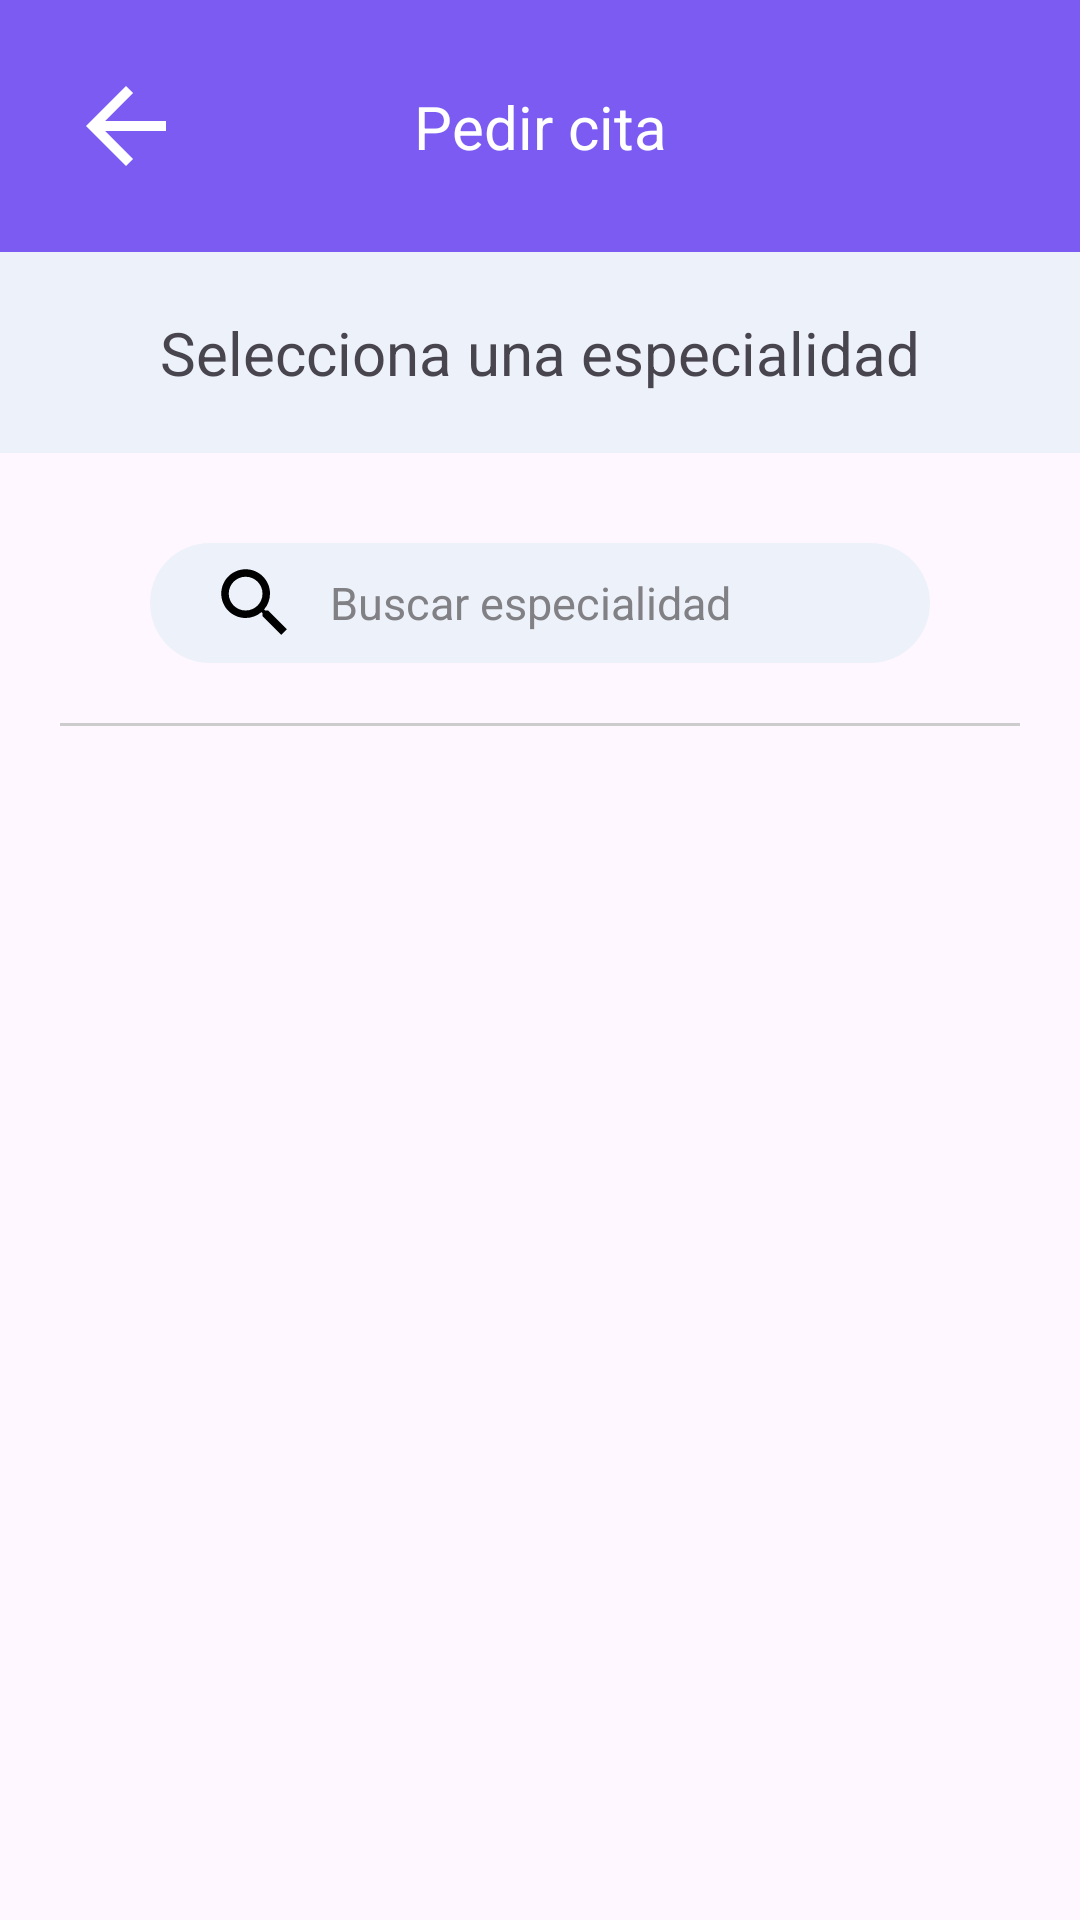

Icons on this 1080px x 1920px Android screen, each with its box as BBox(x1, y1, x2, y2):
back arrow: BBox(86, 86, 166, 166)
